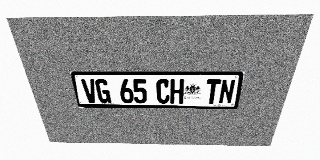5: (133, 79, 147, 103)
6: (119, 79, 134, 103)
C: (156, 79, 170, 104)
G: (95, 79, 111, 103)
H: (170, 79, 184, 104)
N: (218, 79, 236, 104)
T: (205, 79, 221, 104)
V: (81, 79, 98, 103)
